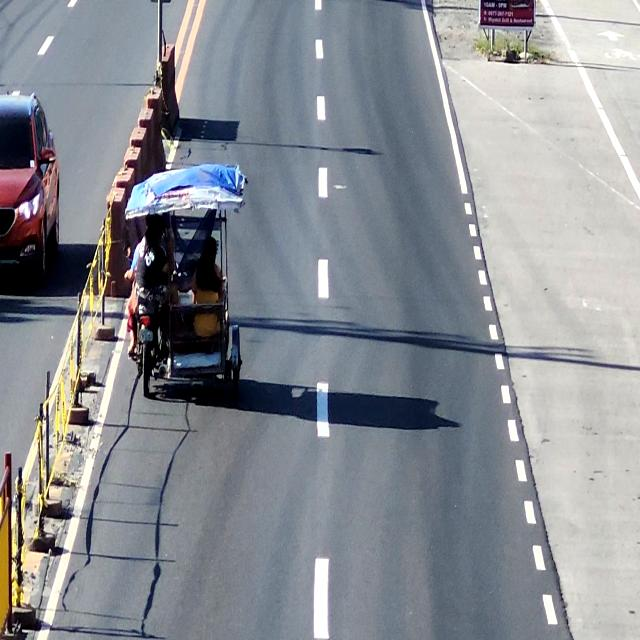Tricycle: (127, 162, 250, 409)
